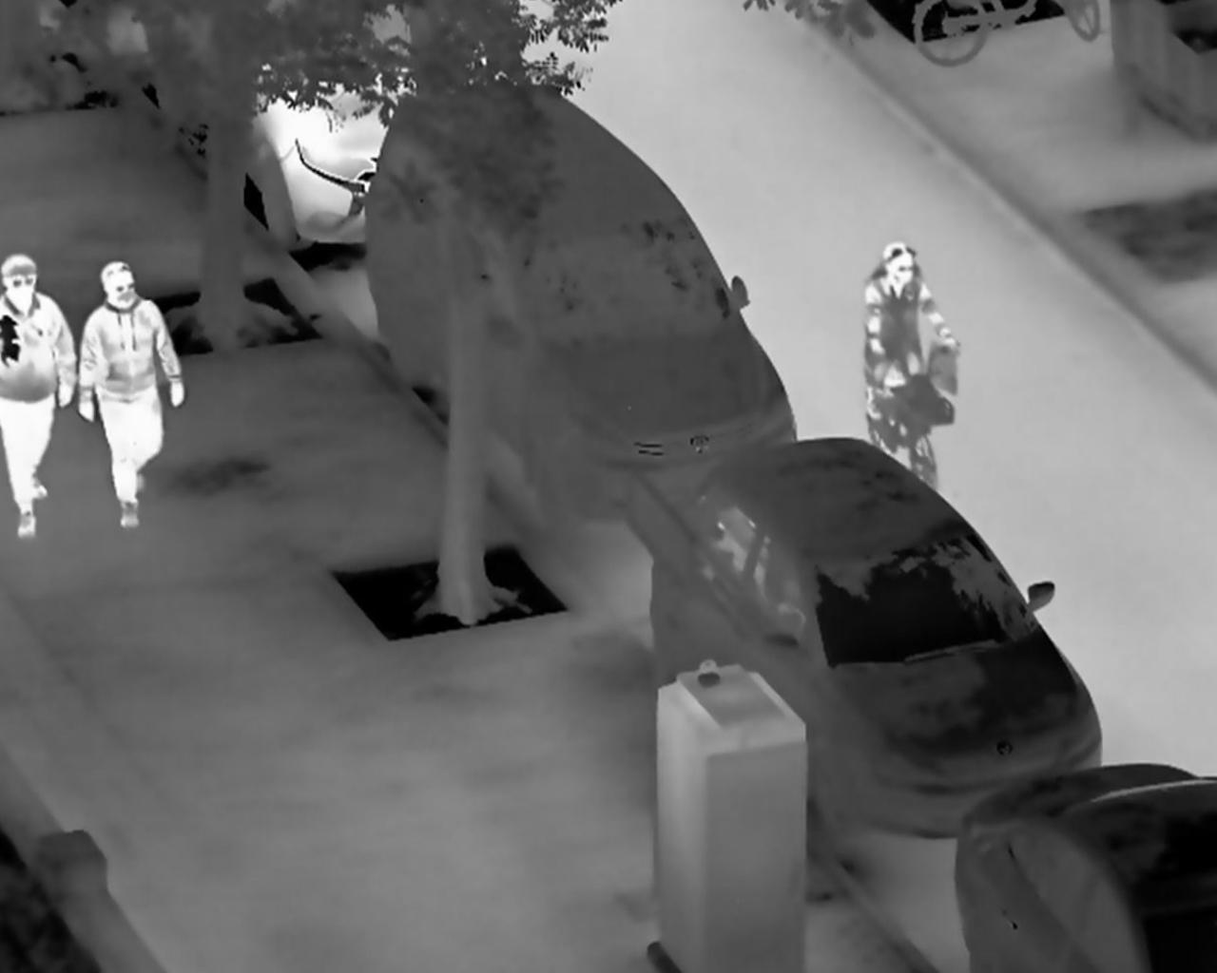person: (75, 258, 186, 527), (860, 241, 961, 424)
